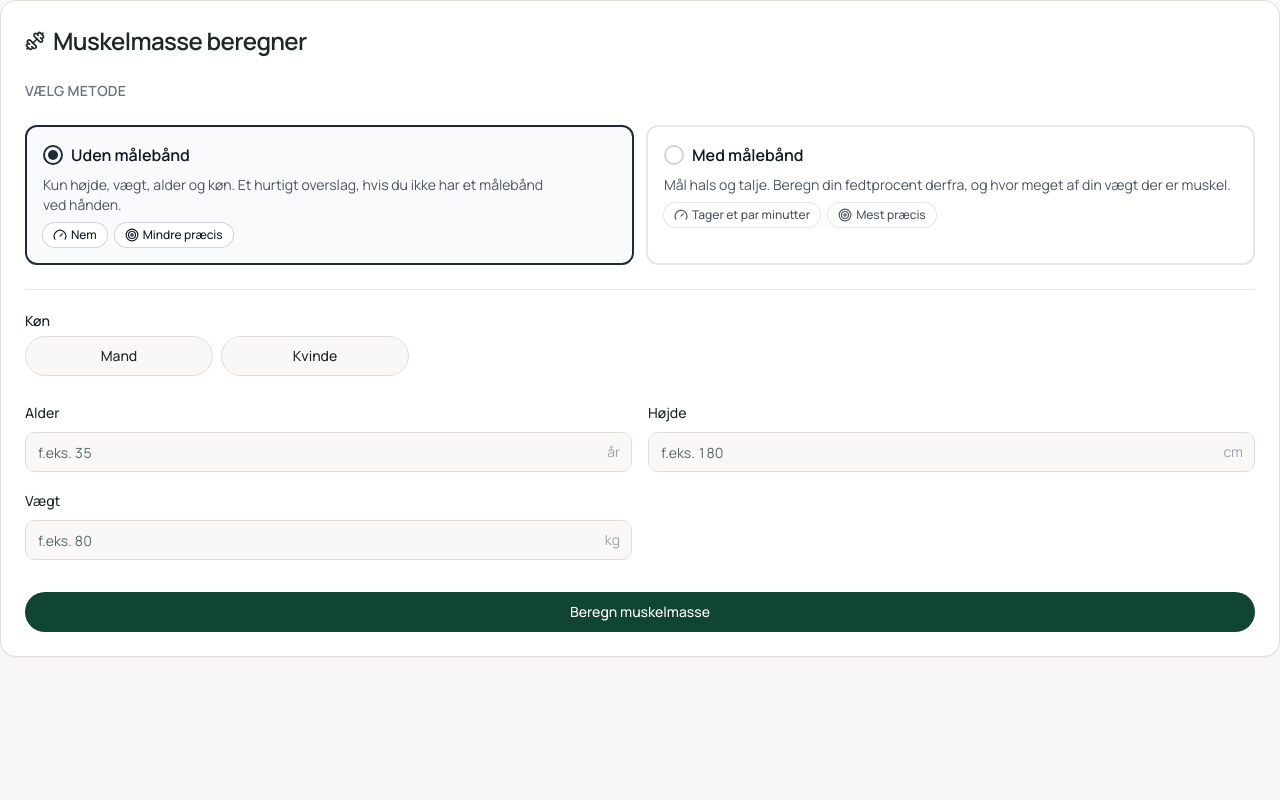
Test: MuscleMassCalculator › starts on the quick method, without the tape fields or the fat stats
This screenshot has width=1280, height=800.
Expected: the radio button labelled "Uden målebånd" is checked, x1=25 y1=125 x2=634 y2=265
Click the button "Mand". click: (119, 356)
box: x1=25 y1=336 x2=213 y2=376
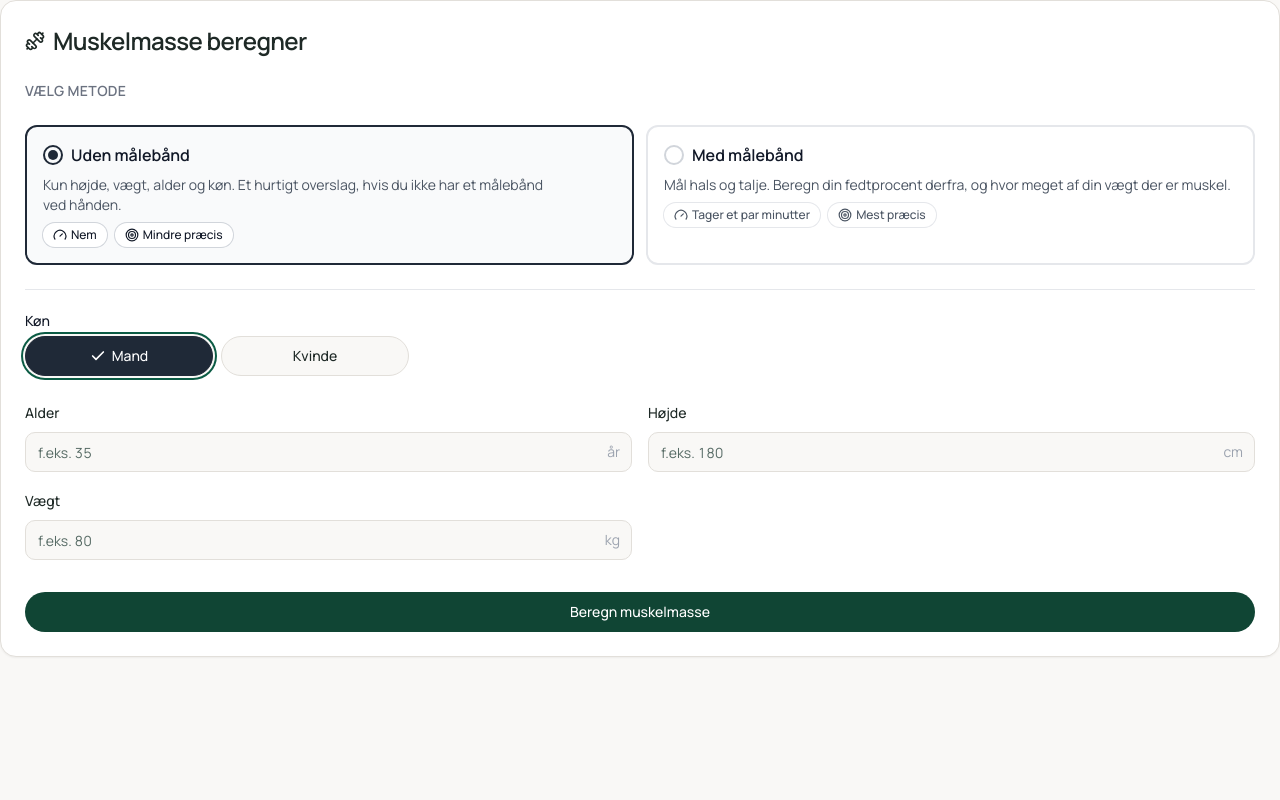
Type "35" into the field labelled "Alder". click: (328, 452)
box: x1=25 y1=432 x2=632 y2=472
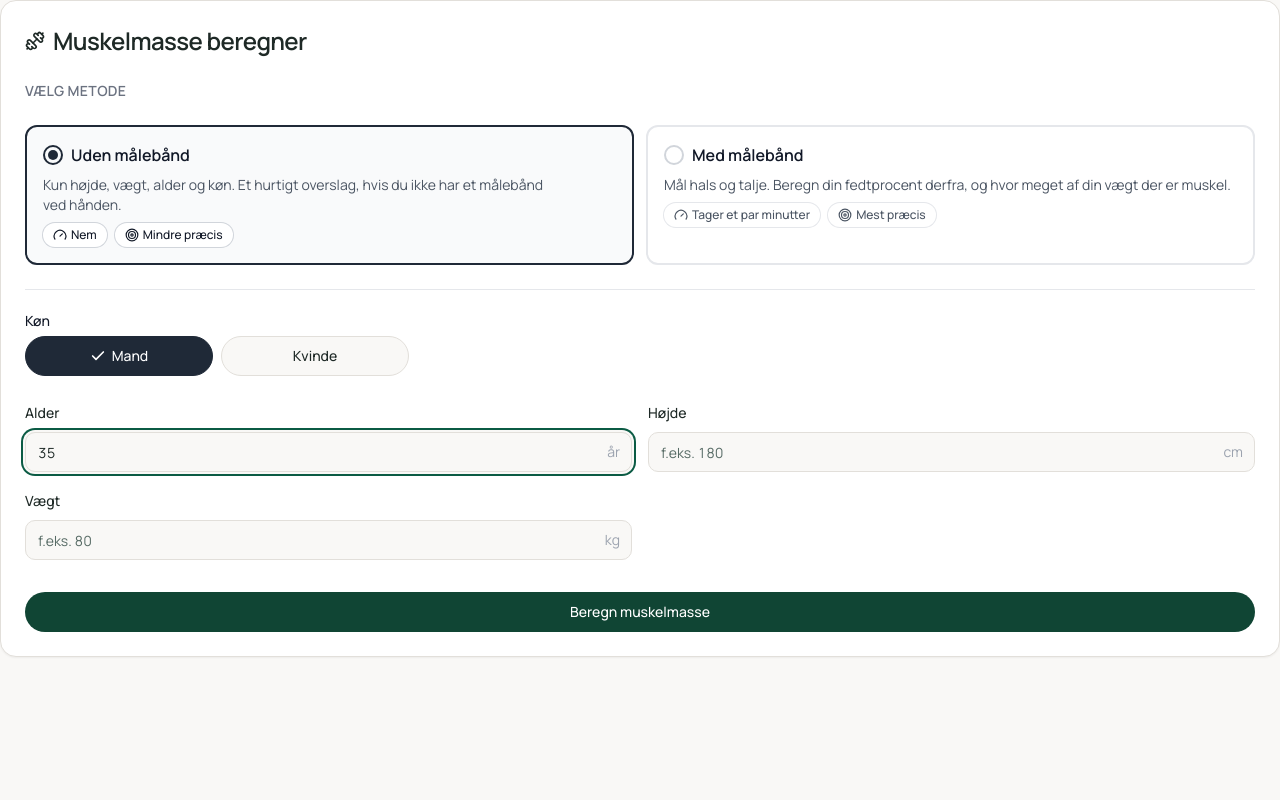
Type "180" into the field labelled "Højde". click: (952, 452)
box: x1=648 y1=432 x2=1255 y2=472
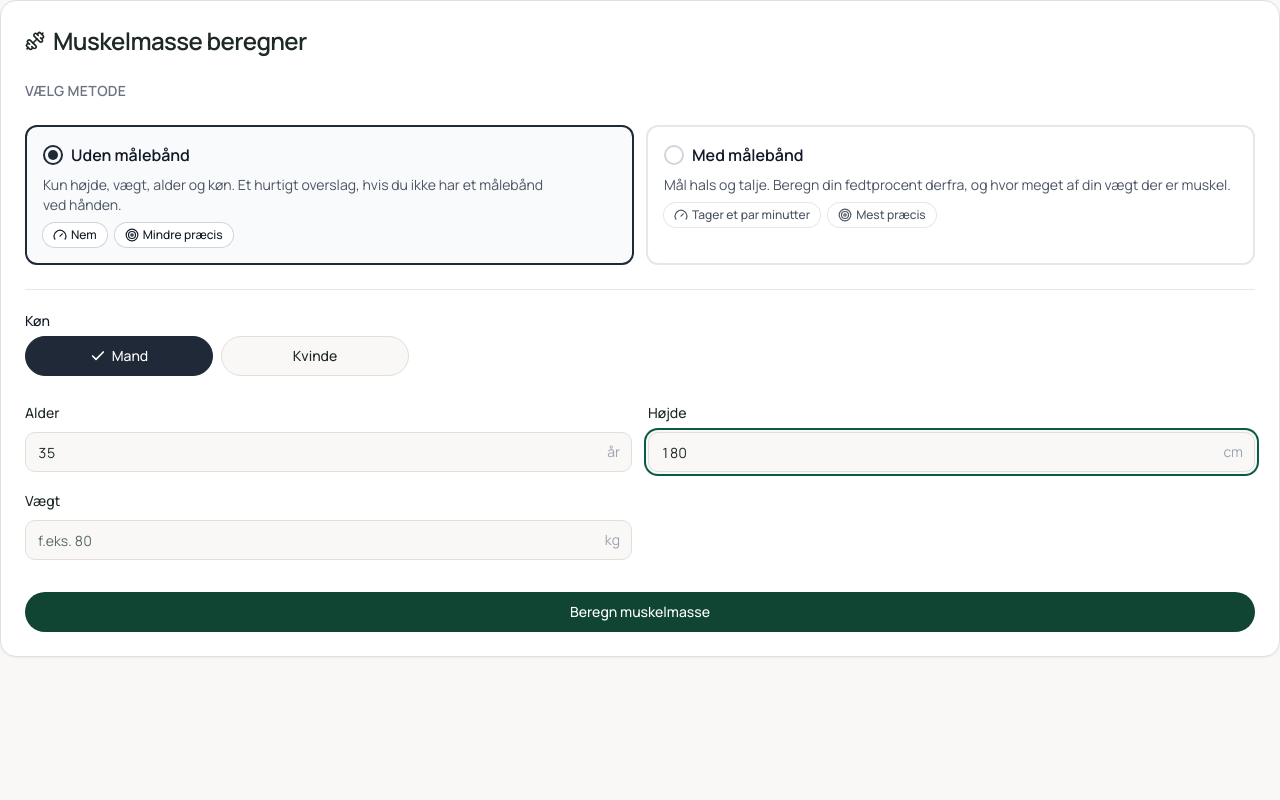
Type "80" into the field labelled "Vægt". click: (328, 540)
box: x1=25 y1=520 x2=632 y2=560
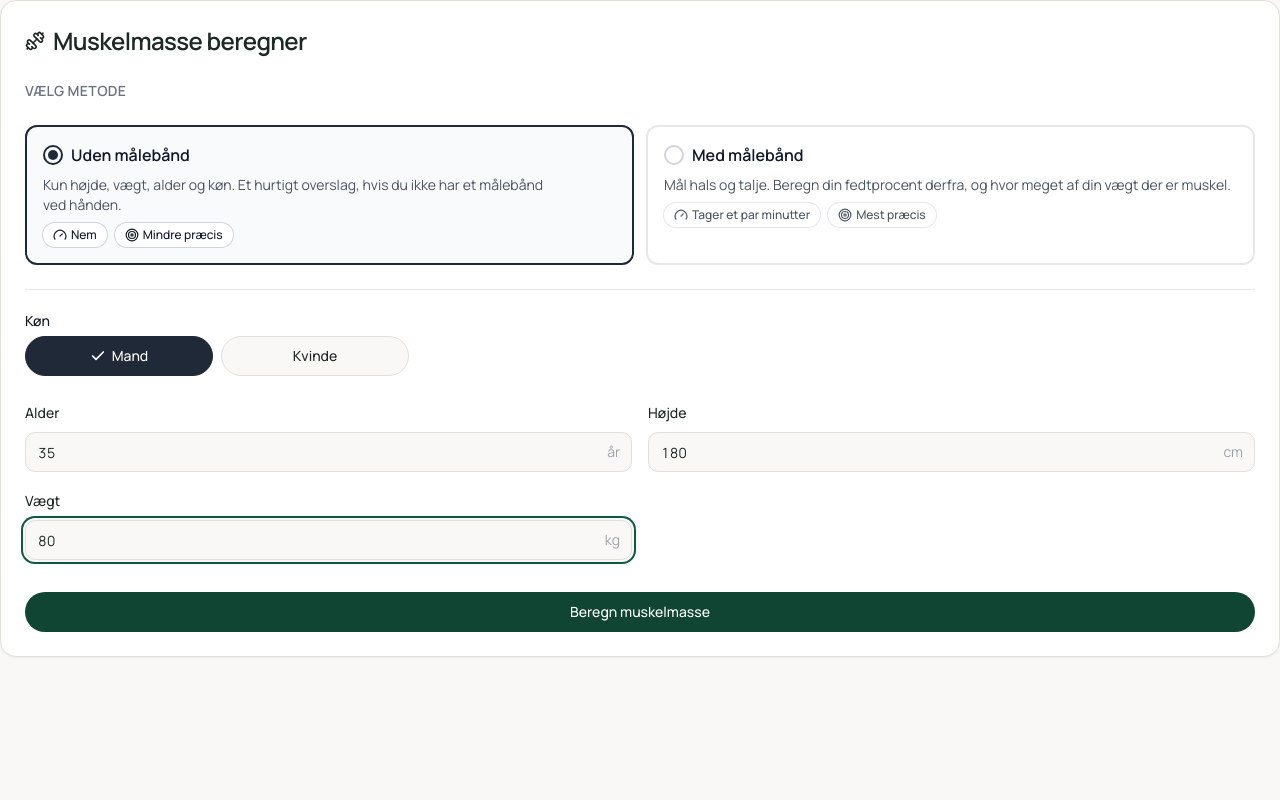
Click the button "Beregn muskelmasse". click: (640, 612)
box: x1=25 y1=592 x2=1255 y2=632
(page scrolled)
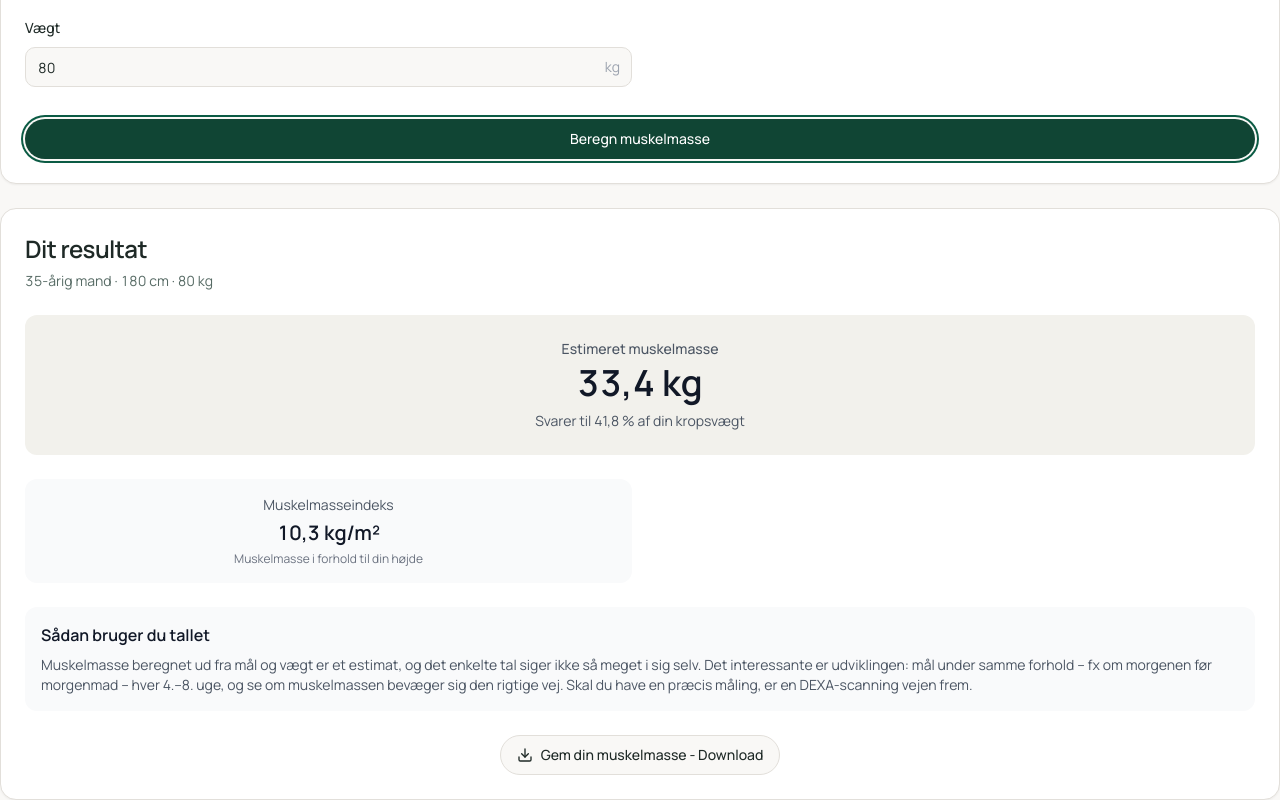
Expected: the text "Fedtprocent" is not shown
Result: the text "33,4 kg" is shown at x1=577 y1=358 x2=703 y2=407
